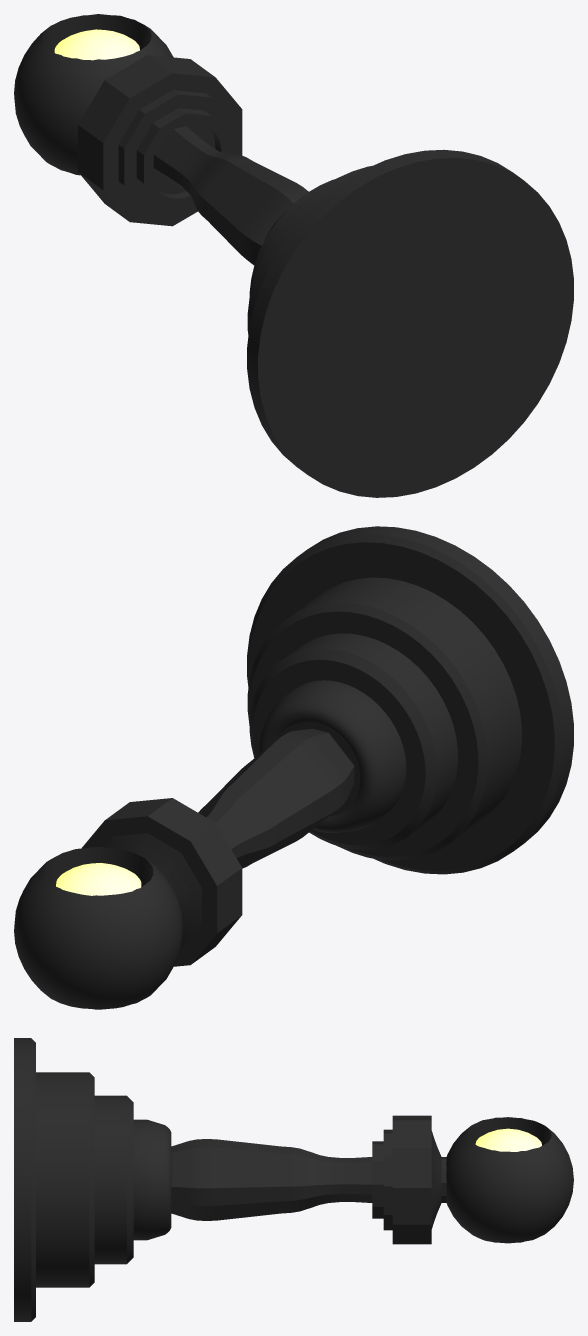
The model's file is PlasmaTower1.fbx.
3 renders of one model, top to bottom at view 1: azimuth 30°, elevation 25°; view 2: azimuth 150°, elevation 25°; view 3: azimuth 270°, elevation 25°, orthographic. The views are drawn at different scales.
Parts seen in each view (by area): view 1: Cylinder.002, Cylinder.001, Sphere, Cube.003, Slice; view 2: Cylinder.002, Sphere, Cube.003, Cylinder.001, Slice; view 3: Cylinder.002, Cube.003, Sphere, Cylinder.001, Slice.
Part boxes in pixels (x1=…): Cylinder.002: x1=247, y1=149, x2=573, y2=497; Cylinder.001: x1=78, y1=55, x2=242, y2=226; Sphere: x1=14, y1=14, x2=173, y2=175; Cube.003: x1=153, y1=126, x2=308, y2=265; Slice: x1=54, y1=29, x2=139, y2=60; Cylinder.002: x1=247, y1=526, x2=573, y2=874; Sphere: x1=14, y1=847, x2=182, y2=1009; Cube.003: x1=198, y1=728, x2=354, y2=868; Cylinder.001: x1=81, y1=798, x2=242, y2=966; Slice: x1=56, y1=863, x2=141, y2=895; Cylinder.002: x1=14, y1=1038, x2=171, y2=1321; Cube.003: x1=171, y1=1139, x2=372, y2=1220; Sphere: x1=446, y1=1117, x2=573, y2=1243; Cylinder.001: x1=372, y1=1115, x2=446, y2=1244; Slice: x1=475, y1=1128, x2=541, y2=1151.
Bounding box in the file's own units: 1156 × 1159 × 2282.
